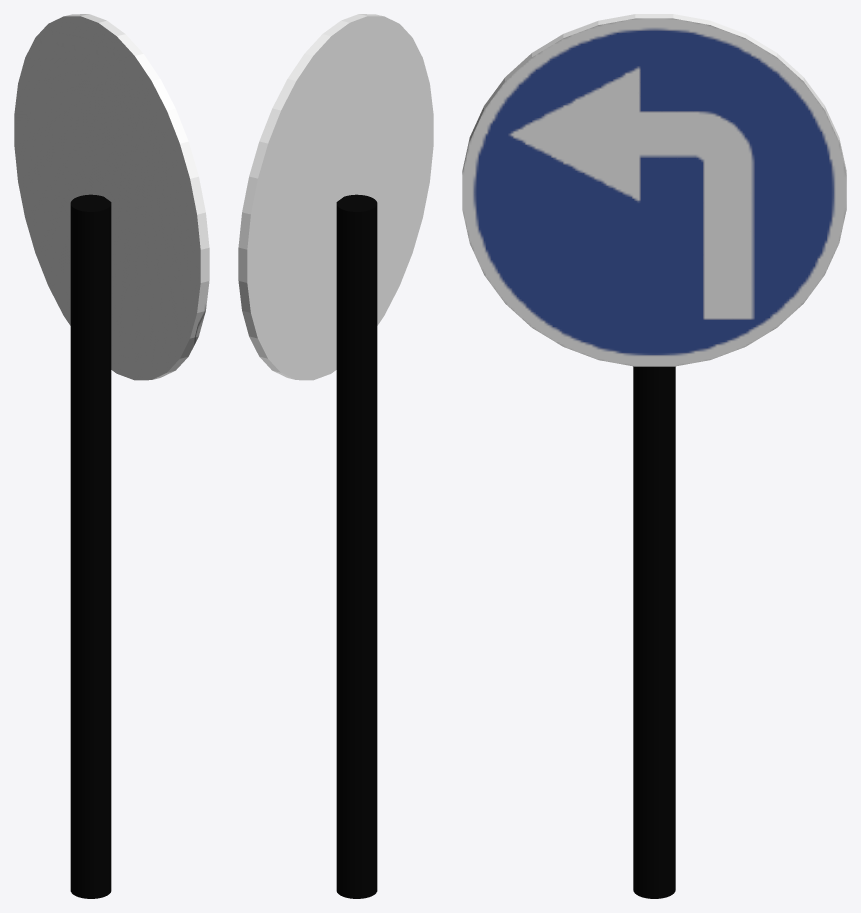
Rendered from Sign_Left_Circle_Blue.fbx.
3 renders of one model, left to right at view 1: azimuth 30°, elevation 25°; view 2: azimuth 150°, elevation 25°; view 3: azimuth 270°, elevation 25°, orthographic. The views are drawn at different scales.
Visible parts, largest first — view 1: Sign_Left, Pole.001; view 2: Sign_Left, Pole.001; view 3: Sign_Left, Pole.001.
Part boxes in pixels (x1,y1,x2,y2): Sign_Left: [14, 14, 209, 380]; Pole.001: [70, 194, 111, 898]; Sign_Left: [238, 14, 433, 380]; Pole.001: [336, 194, 377, 898]; Sign_Left: [462, 14, 846, 366]; Pole.001: [633, 366, 675, 898].
Size of the model in its own units: 5.85 by 111 by 43.79.
